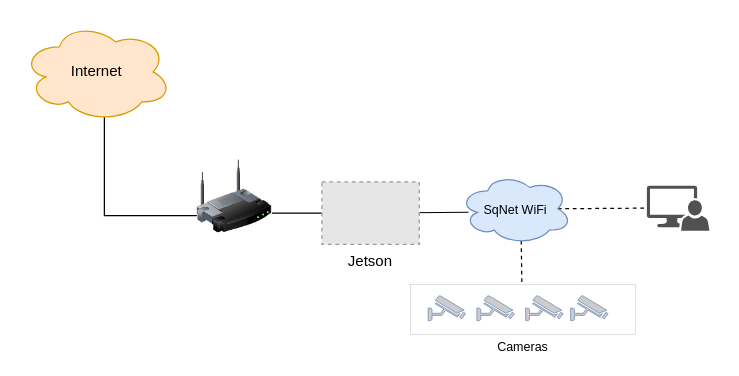
Some shapes in this 739 by 376 pixel diagram are drawn without their labels. Grey dashed boxes stand in for pictures. The centre of each missing label's shape, as x and y in pixels:
Administration: pixel 677 207
Store Wi-Fi: pixel 233 196
